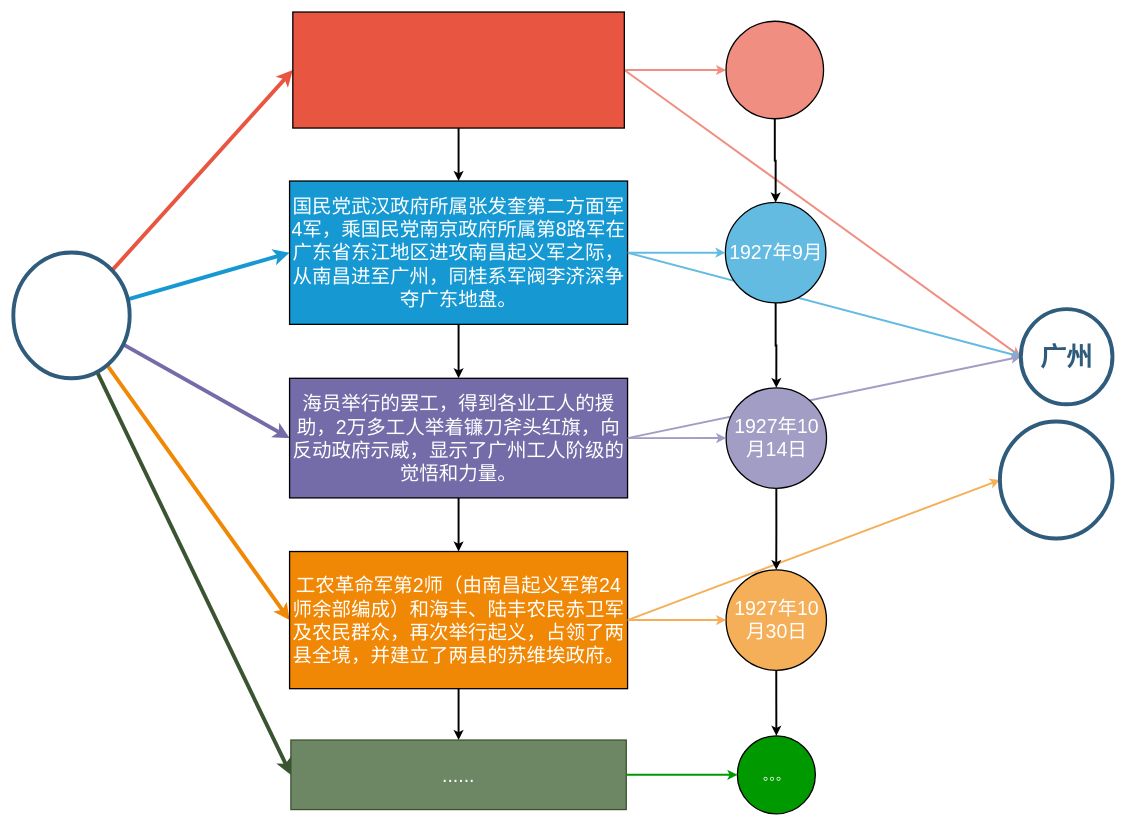
Image size: 1125x826. Some labels were removed from this diagram. Each missing label, with the centre of its shape:
"1927年4月" belongs at point (774, 69).
"国民党内蒋介石集团和汪精卫集团相继叛变革命，广东省国民党当局亦在广州等地大肆屠杀共产党人和革命人民，实行白色恐怖" belongs at point (458, 69).
"广东" belongs at point (1056, 479).
"广州起义" belongs at point (71, 315).
